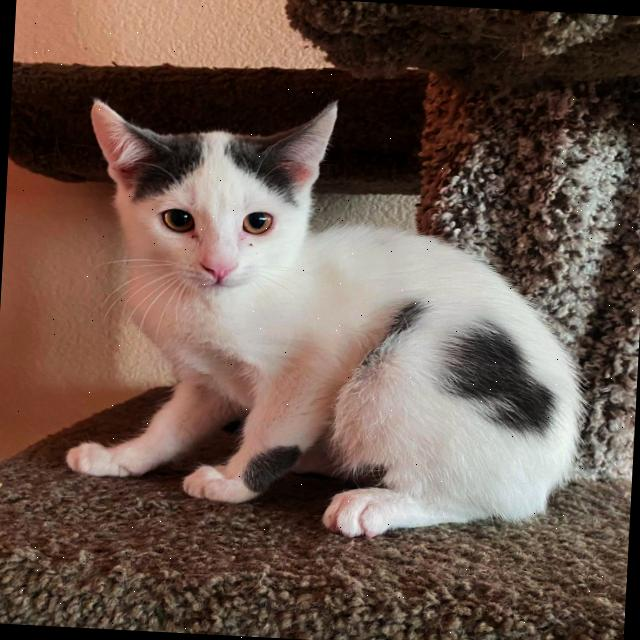american_shorthair_cat: (74, 82, 346, 308)
